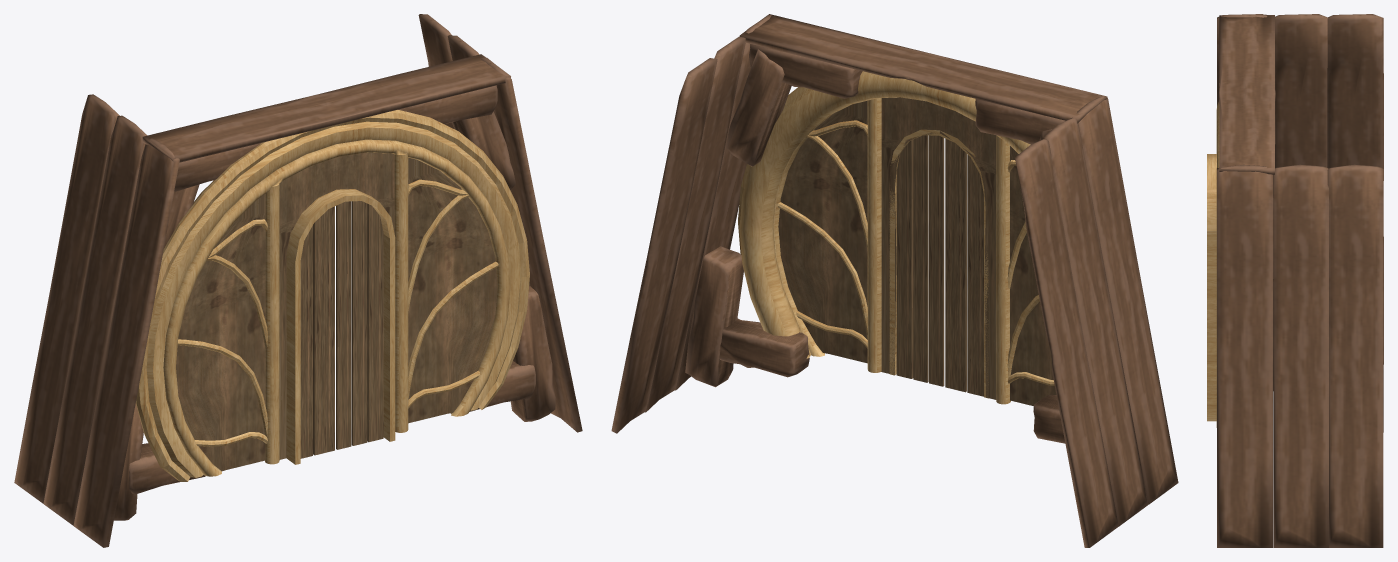
Rendered from SM_housefront_rounded_door.fbx.
The picture shows the model from 3 angles, left to right: view 1: azimuth 30°, elevation 25°; view 2: azimuth 150°, elevation 25°; view 3: azimuth 270°, elevation 25°; orthographic projection. The views are drawn at different scales.
Visible parts, largest first — view 1: housefront_rounded_door; view 2: housefront_rounded_door; view 3: housefront_rounded_door.
Boxes of the visible parts, left/top/right/bottom form: housefront_rounded_door: left=14, top=14, right=582, bottom=547; housefront_rounded_door: left=611, top=14, right=1178, bottom=547; housefront_rounded_door: left=1207, top=14, right=1383, bottom=547.
Size of the model in its own units: 433 by 323 by 148.
